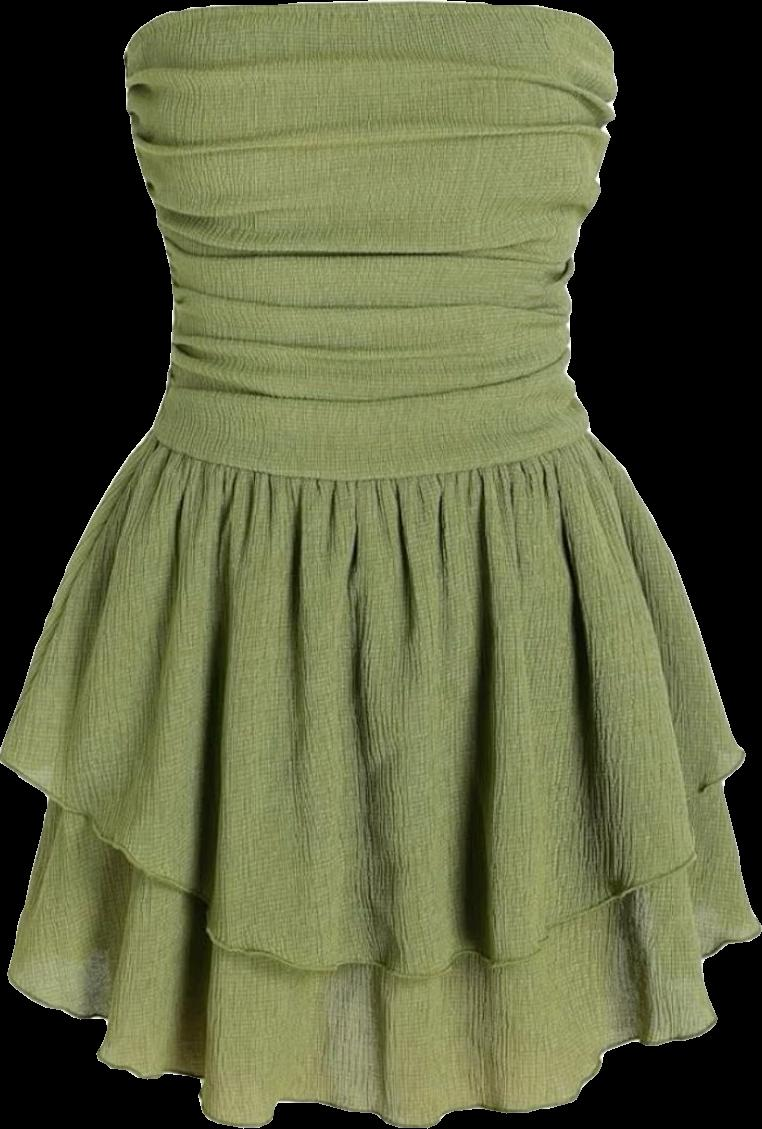Bodice: (123, 1, 617, 482)
Hemline: (0, 750, 748, 986), (7, 925, 761, 1128)
Neckline: (122, 0, 616, 58)
Skirt: (0, 432, 761, 1126)
Waistline: (141, 426, 597, 498)
